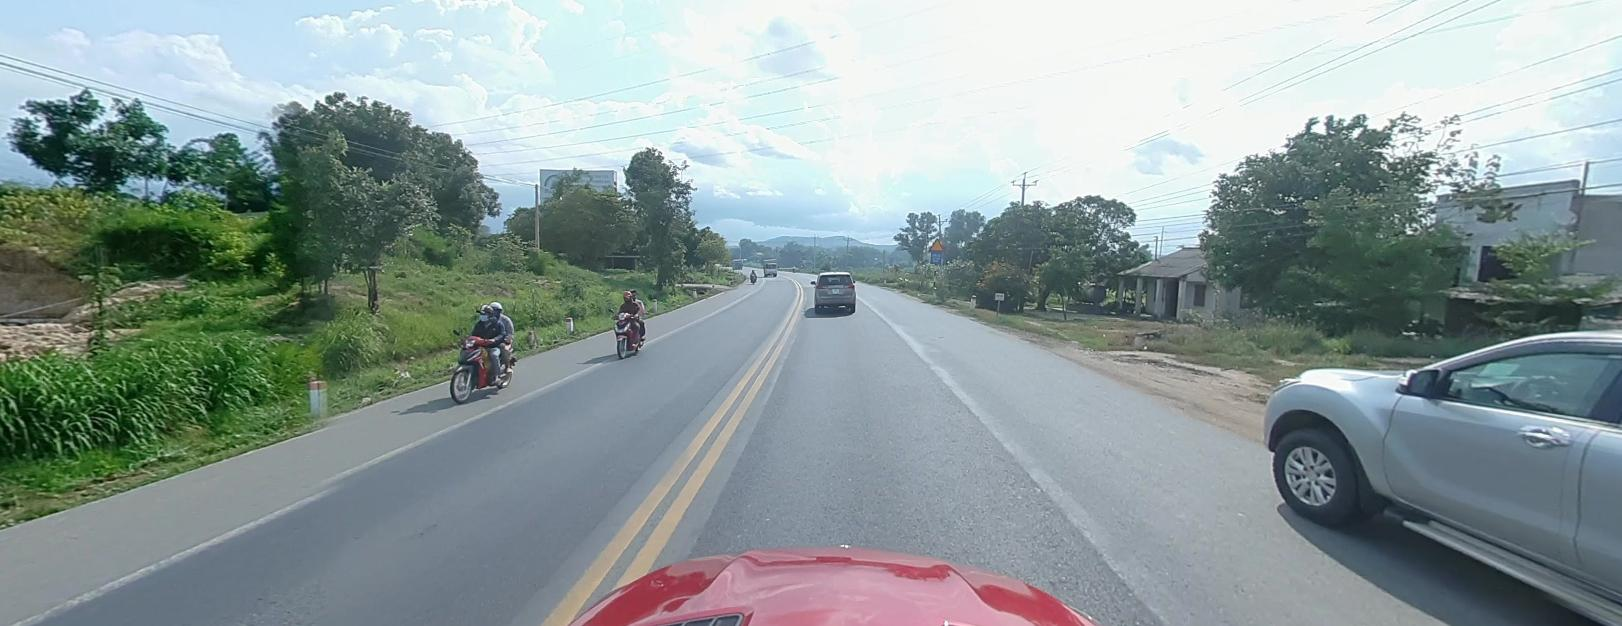Nguy hiem: (929, 237, 942, 249)
